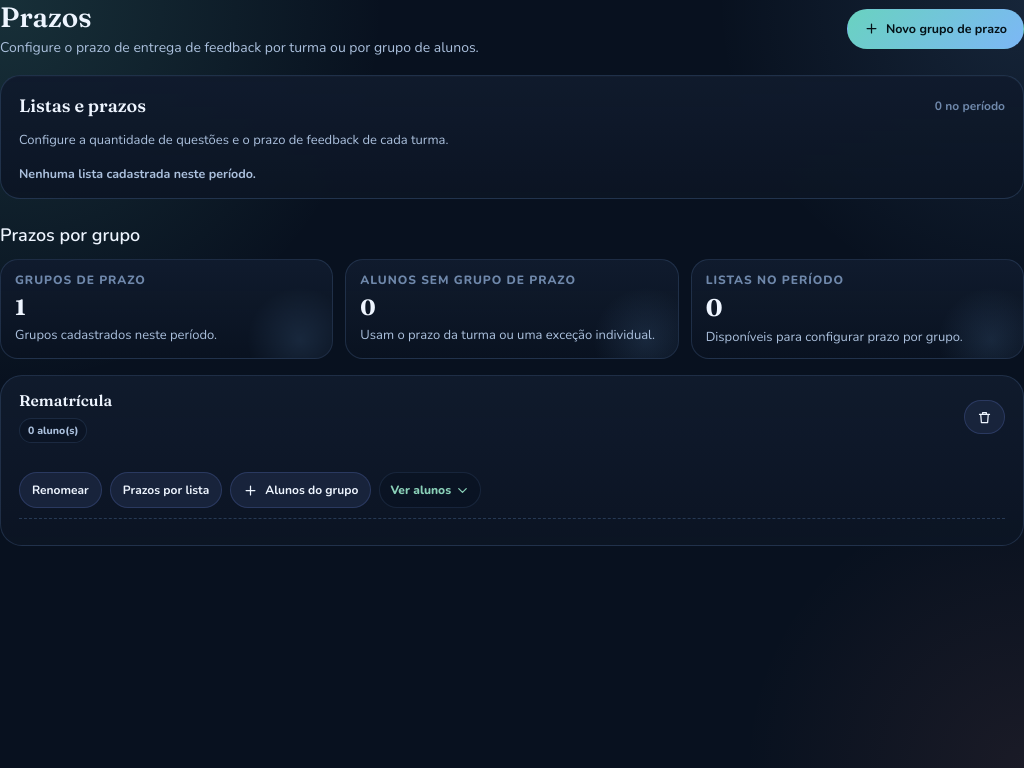
GruposPrazo › carrega e permite editar os prazos do grupo por lista
What coordinates should you click on to do the following:
click the button "Prazos por lista"
I would click on:
 (166, 490)
Its box is [110, 472, 222, 508].
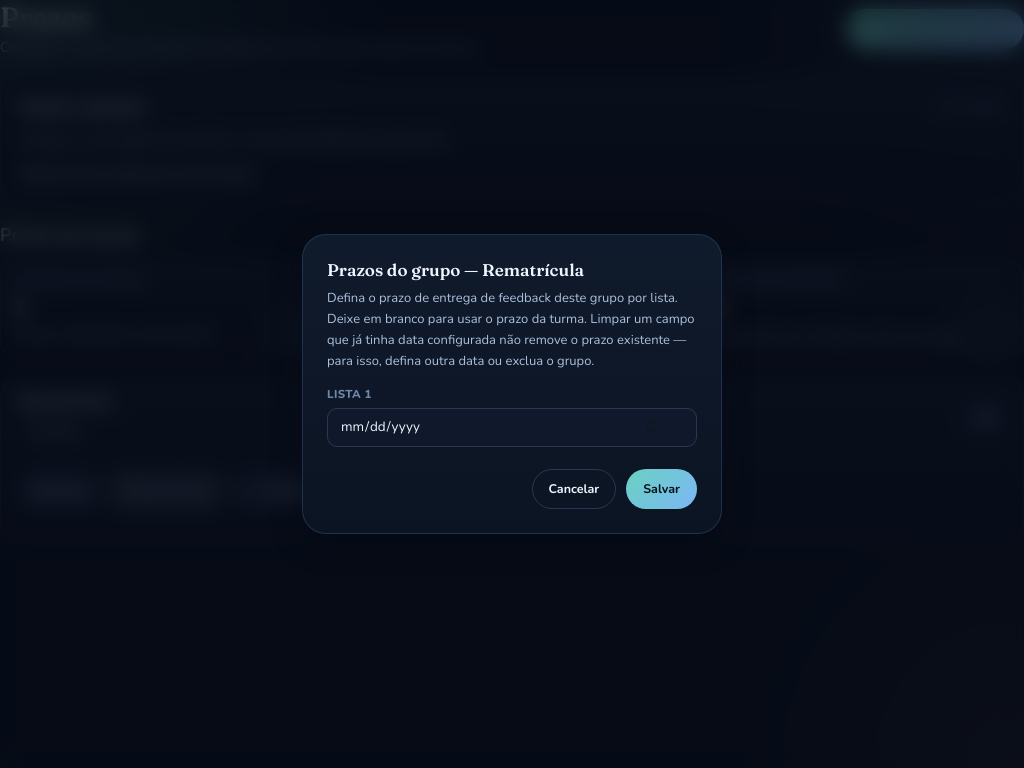
Expected: the text "Lista 1" is shown, [327, 386, 372, 402]
